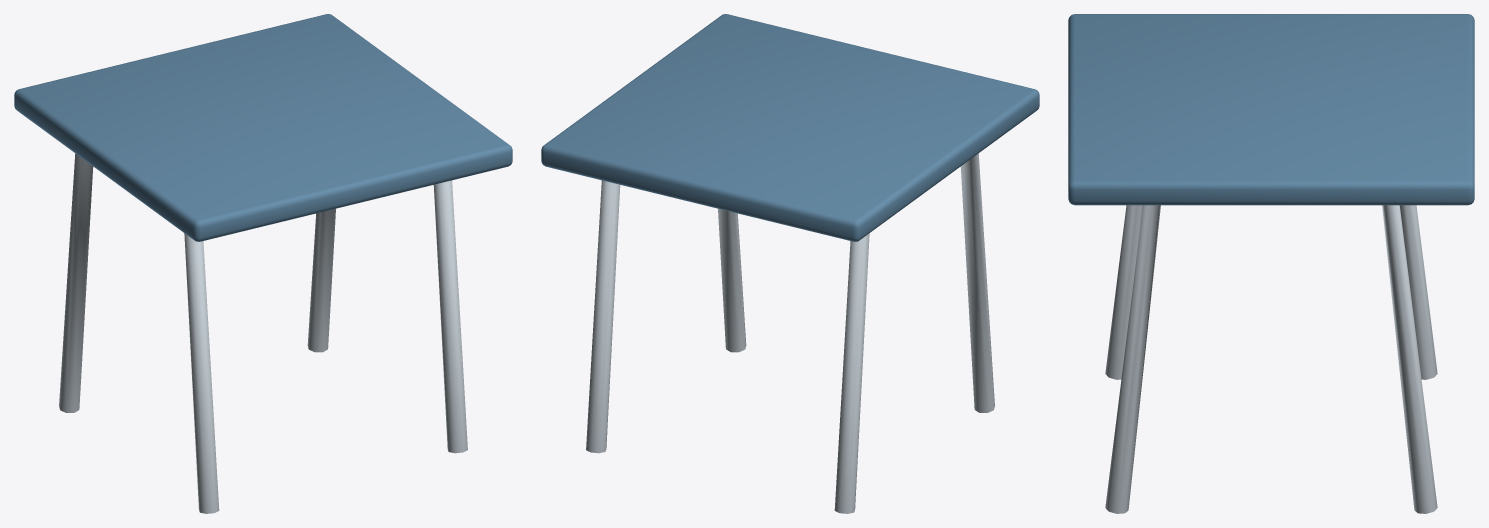
File: breakfast-square-table.glb
The picture shows the model from 3 angles, left to right: view 1: azimuth 30°, elevation 25°; view 2: azimuth 150°, elevation 25°; view 3: azimuth 270°, elevation 25°; orthographic projection. The views are drawn at different scales.
Visible parts, largest first — view 1: breakfast-square-table; view 2: breakfast-square-table; view 3: breakfast-square-table.
Part boxes in pixels (x1,y1,x2,y2): breakfast-square-table: (14, 14, 512, 513); breakfast-square-table: (541, 14, 1039, 513); breakfast-square-table: (1068, 14, 1474, 513).
Bounding box in the file's own units: 0.8 × 0.75 × 0.8.
